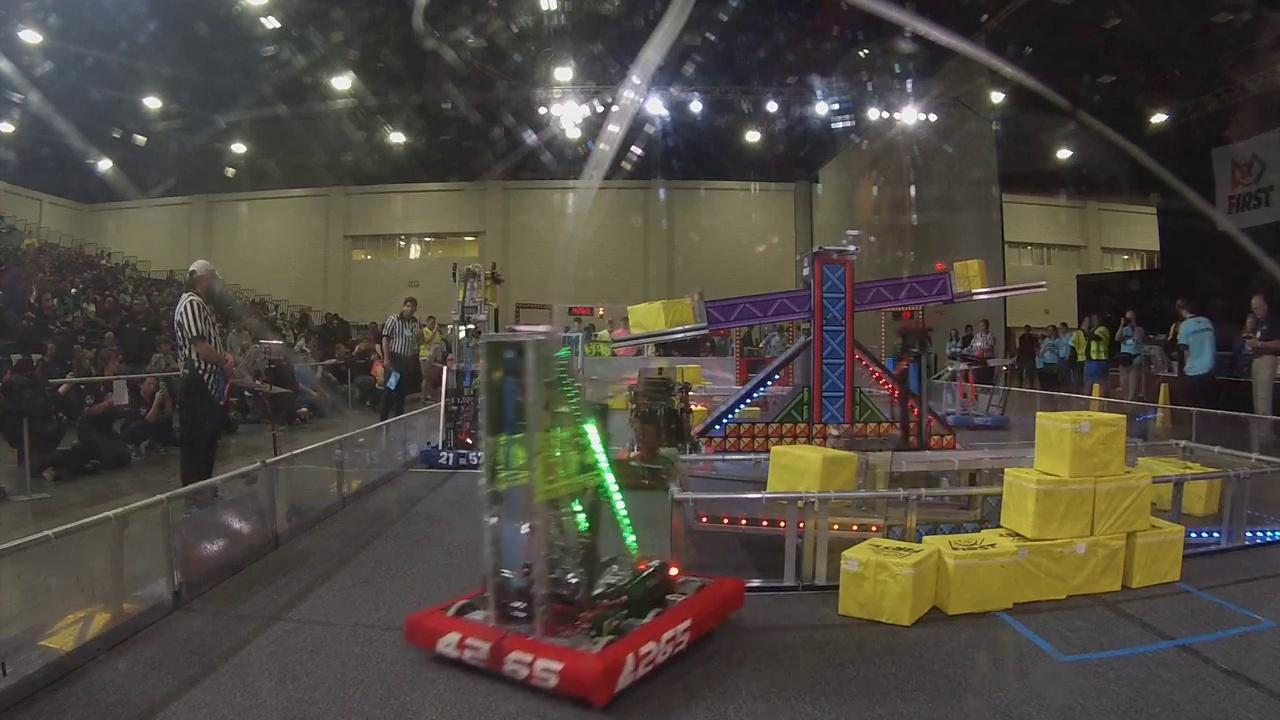robot: (405, 332, 750, 714), (415, 259, 535, 473), (594, 366, 716, 497)
